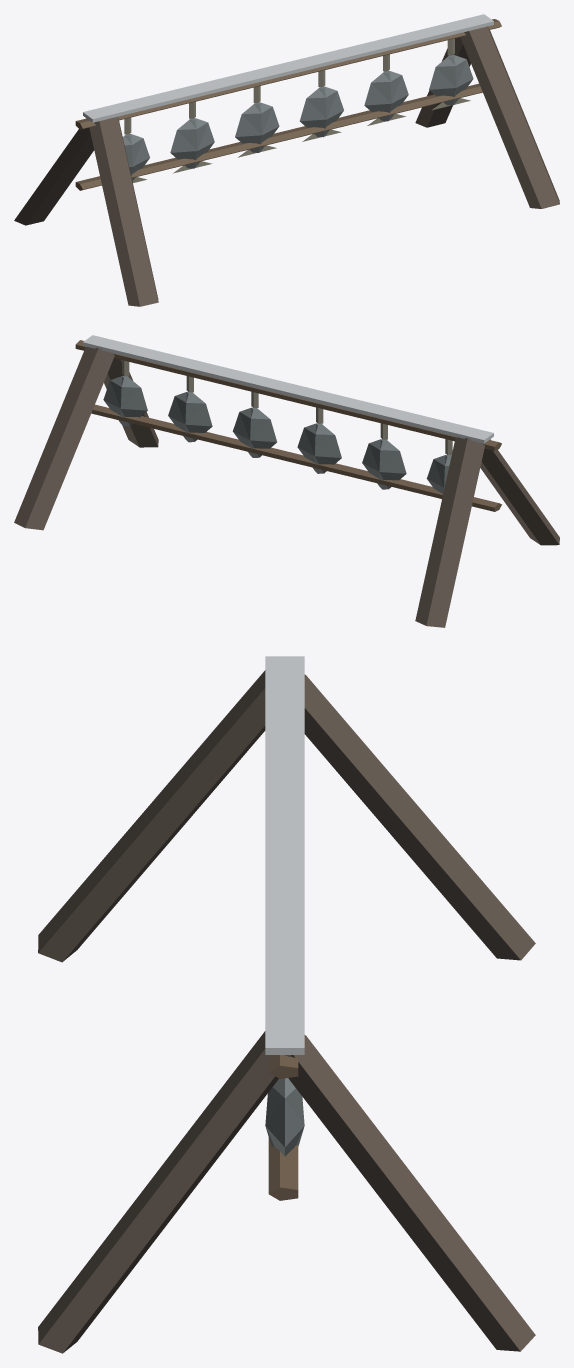
Rendered from fish_drying_frame.glb.
The picture shows the model from 3 angles, top to bottom: view 1: azimuth 30°, elevation 25°; view 2: azimuth 150°, elevation 25°; view 3: azimuth 270°, elevation 25°; orthographic projection. The views are drawn at different scales.
Parts seen in each view (by area): view 1: fish_drying_frame; view 2: fish_drying_frame; view 3: fish_drying_frame.
Boxes of the visible parts, left/top/right/bottom form: fish_drying_frame: left=14, top=14, right=559, bottom=306; fish_drying_frame: left=14, top=335, right=559, bottom=627; fish_drying_frame: left=38, top=656, right=535, bottom=1353.
Size of the model in its own units: 3.84 by 1.25 by 1.92.
